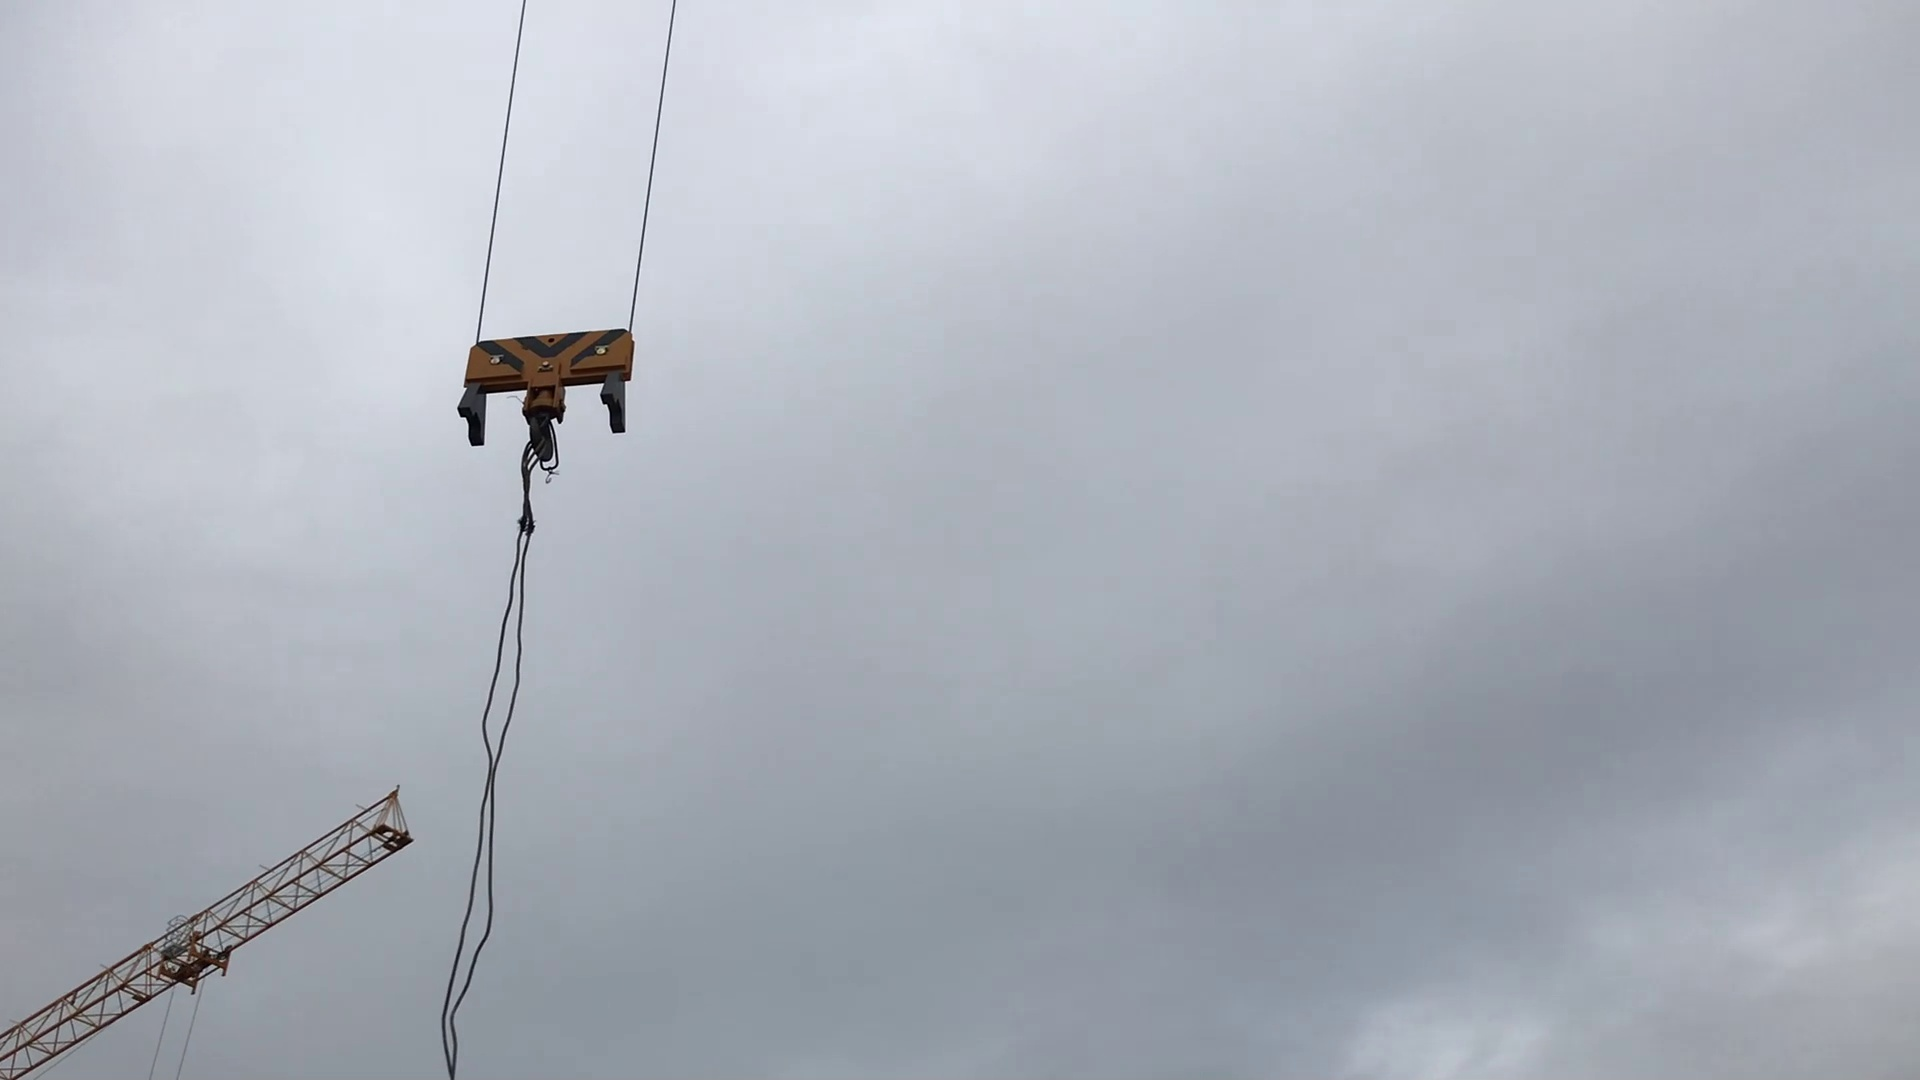hook: (454, 326, 654, 473)
